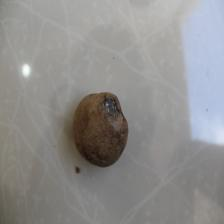Diseased-fungal potato: (72, 92, 129, 169)
